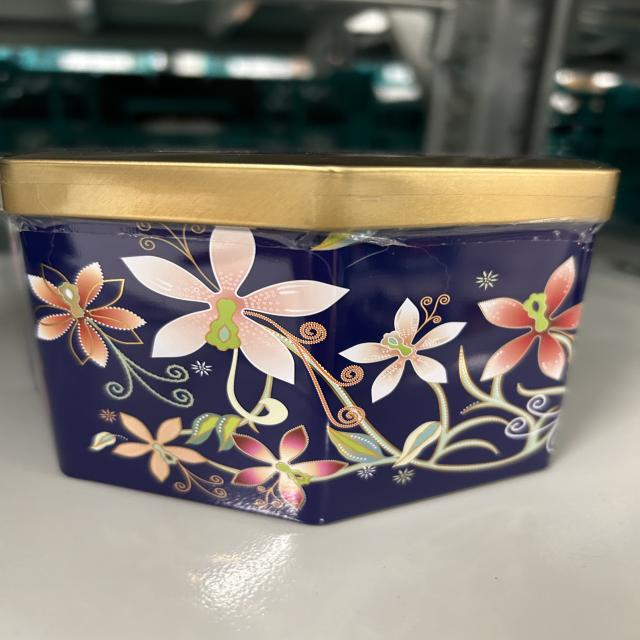object_name: (0, 152, 605, 514)
